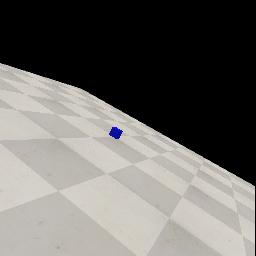box: (109, 127, 123, 139)
